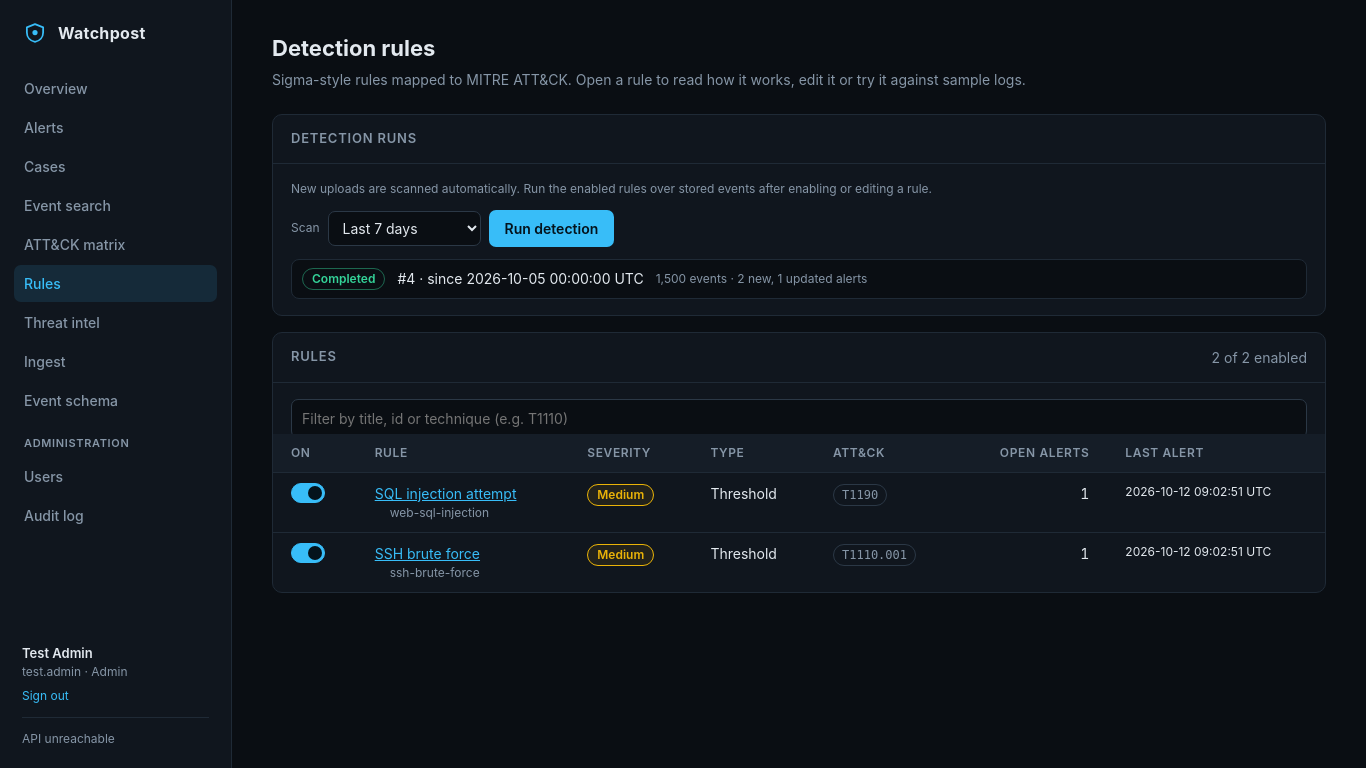
it: RulesPage › filters by title or technique
This screenshot has width=1366, height=768.
Expected: the link "SQL injection attempt" is shown, [375,484,516,502]
Type "t1190" into the search field named "Filter rules" at (799, 418), box [291,398,1307,438]
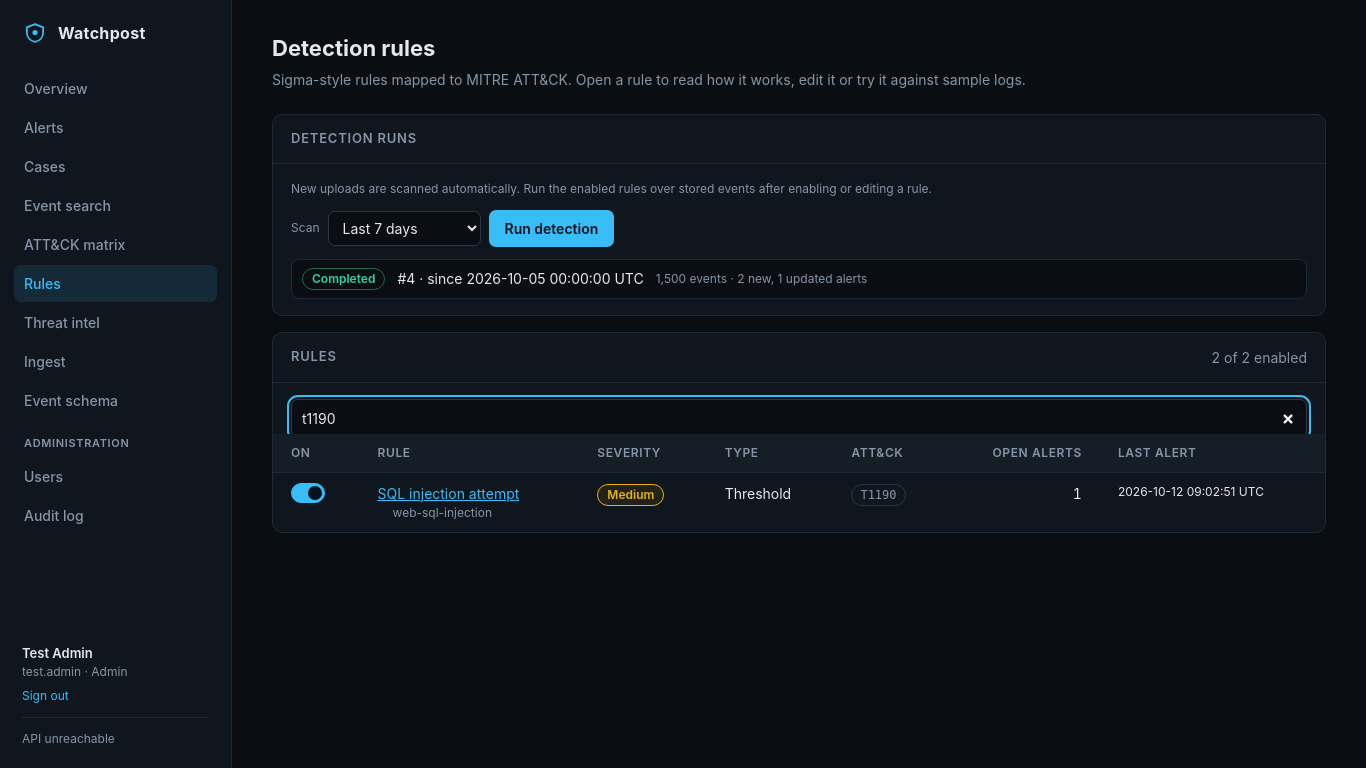
Expected: the link "SQL injection attempt" is shown, [378,484,519,502]
Expected: the link "SSH brute force" is gone
Replace the text in the search field named "Filter rules" with "nothing matches" at (799, 418), box [291,398,1307,438]
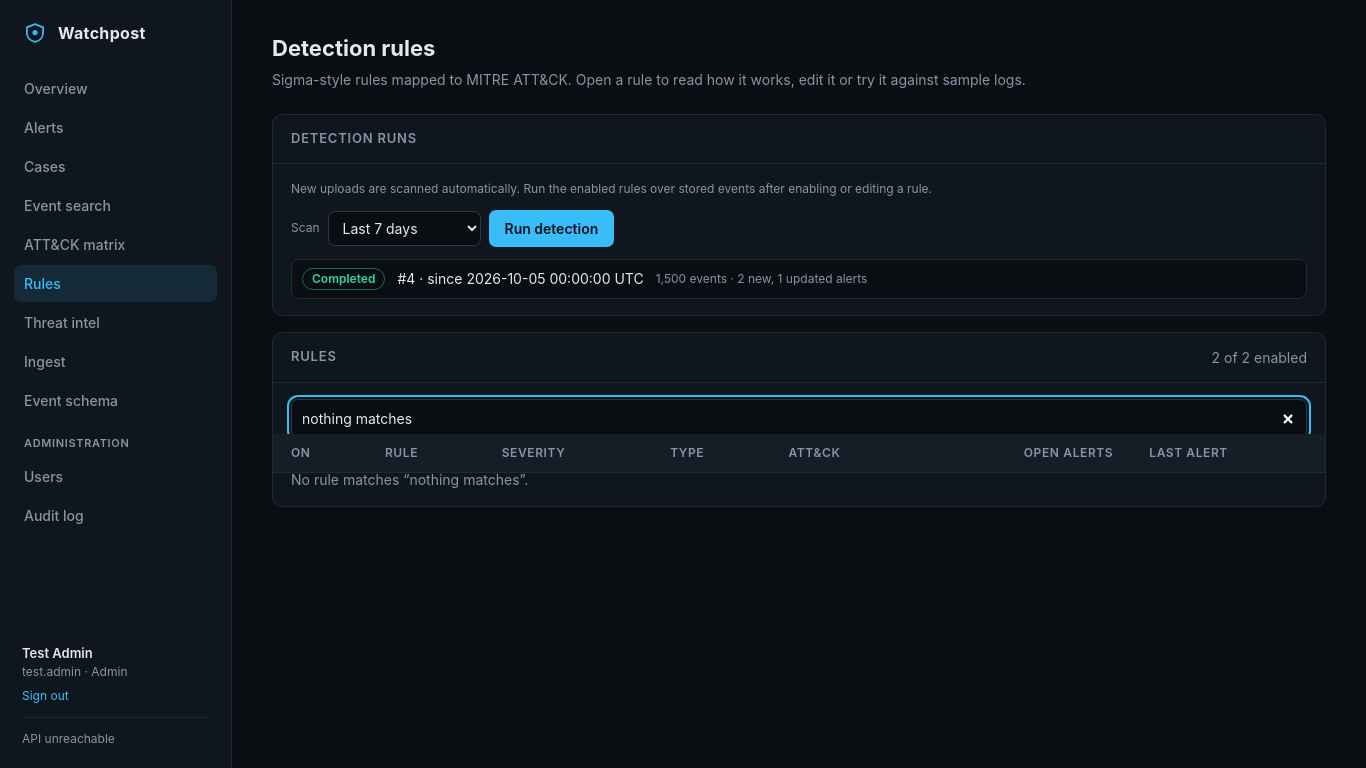
Expected: the text "No rule matches “nothing matches”." is shown, [291,470,528,488]
